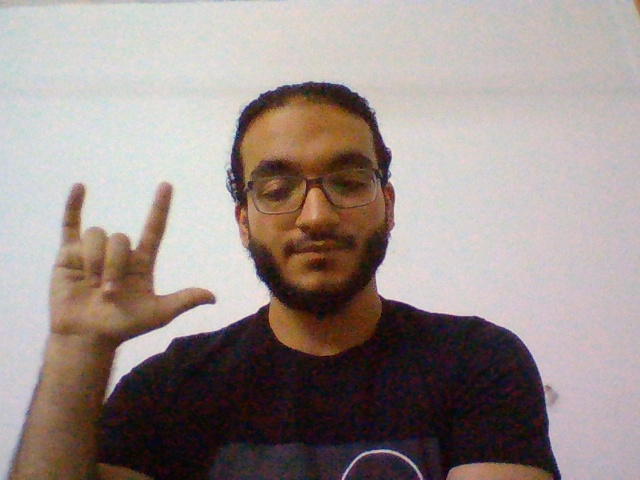I Love Yoy: (41, 174, 218, 338)
